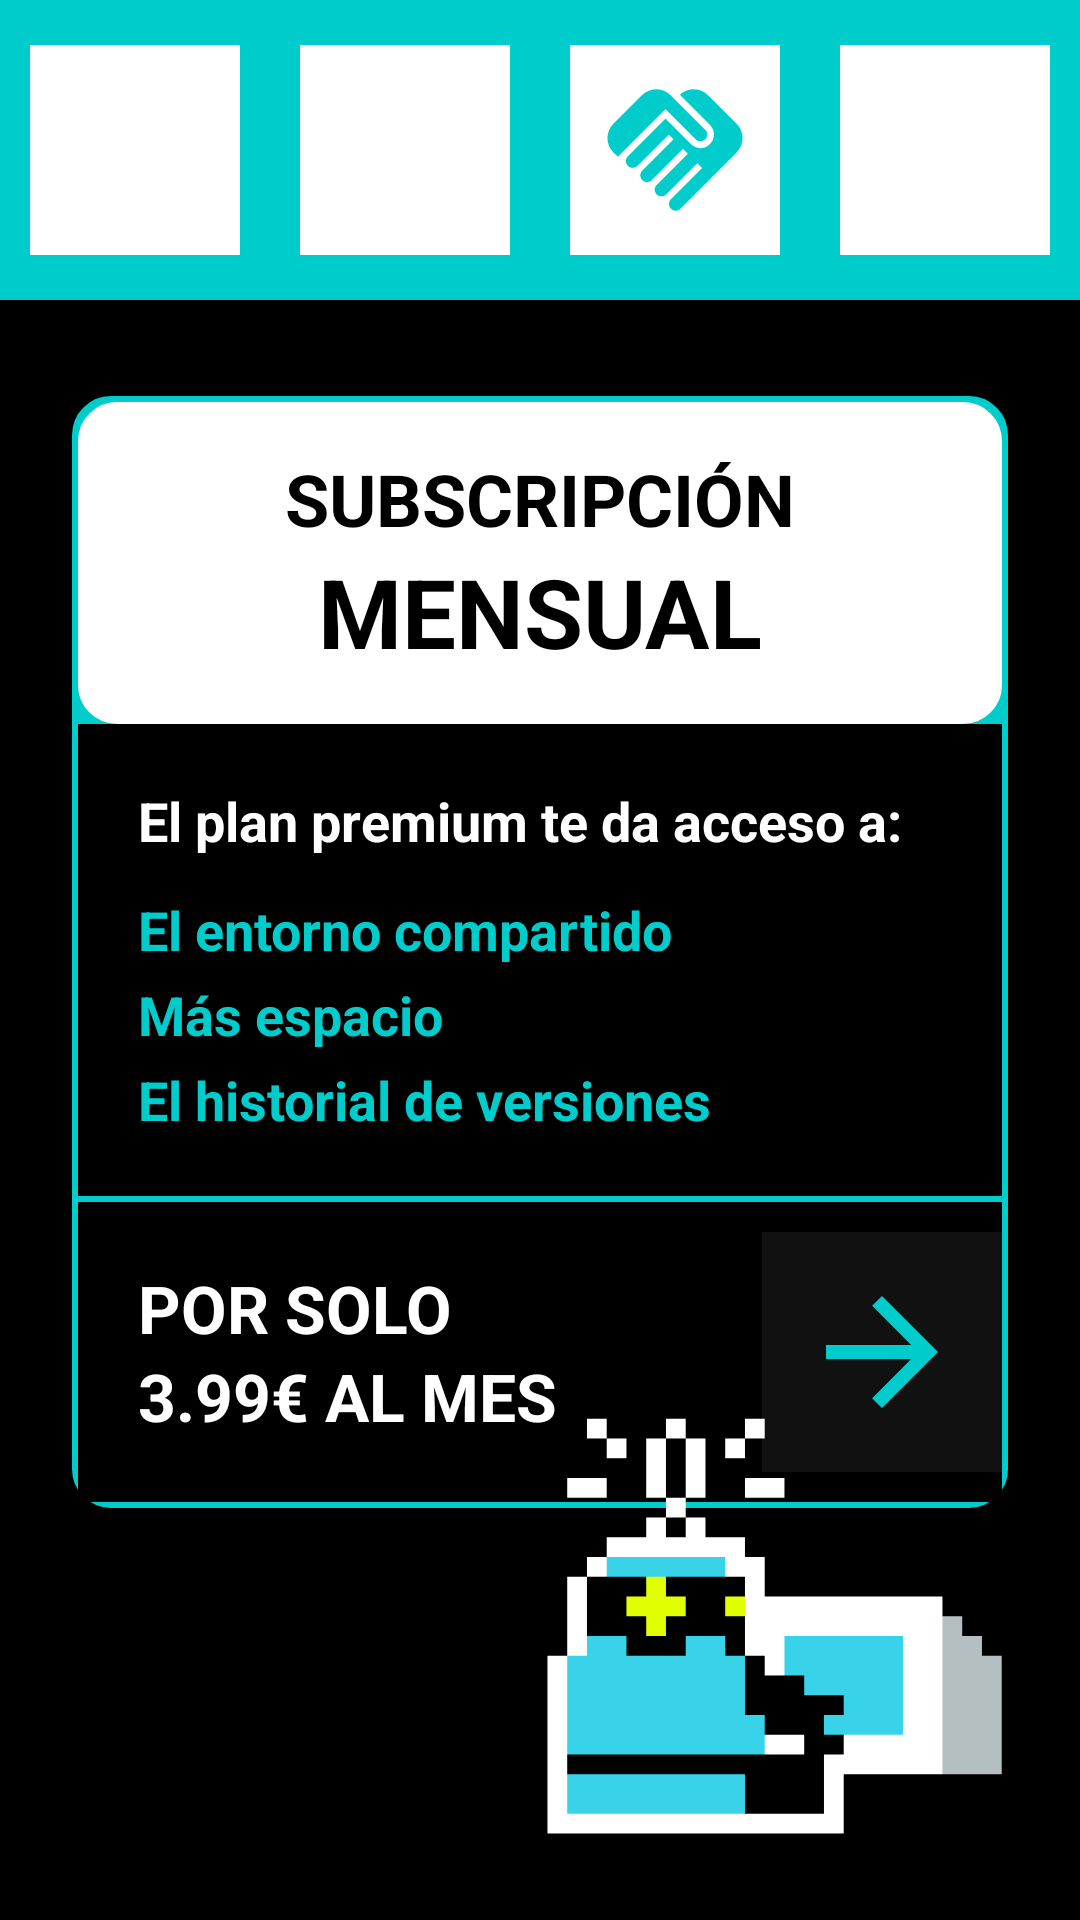

Icons on this 1080w x 1920h Android screen, each with the point to tap as (x=x, y=y):
Entorno compartido: (x=675, y=150)
